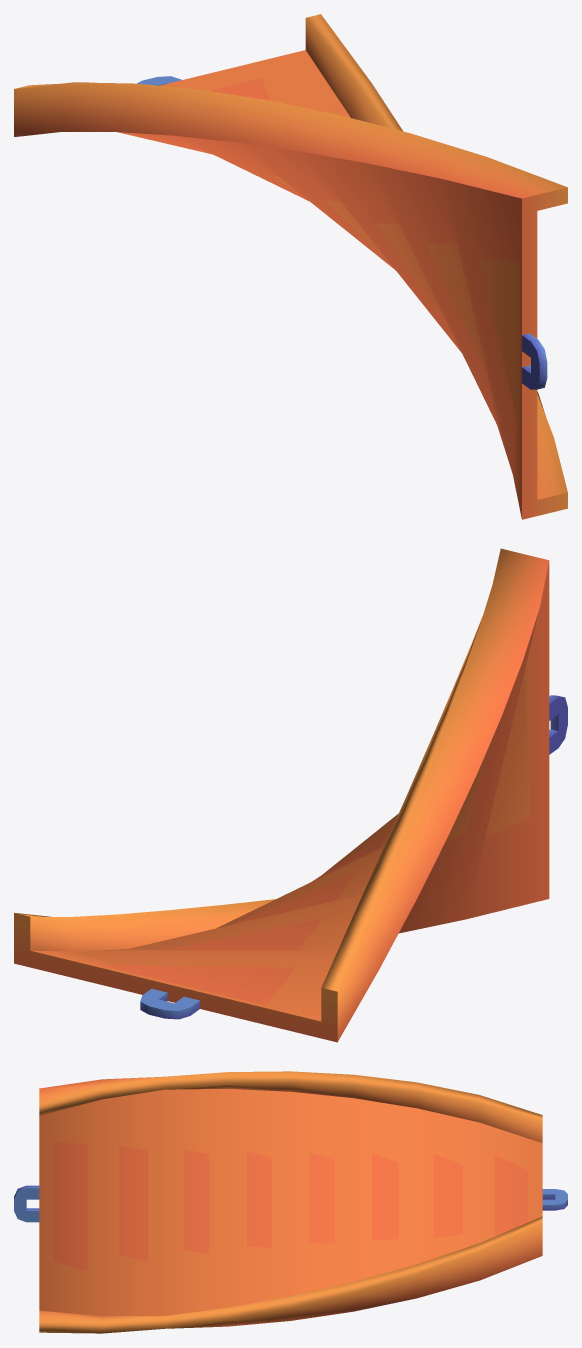
Rendered from kenney-toy-car-track-wide-straight-skew-left-side.glb.
3 views of the same model, one above another, from view 1: azimuth 30°, elevation 25°; view 2: azimuth 150°, elevation 25°; view 3: azimuth 270°, elevation 25° (orthographic). The views are drawn at different scales.
Parts seen in each view (by area): view 1: track-wide-straight-skew-left-side; view 2: track-wide-straight-skew-left-side; view 3: track-wide-straight-skew-left-side.
Part boxes in pixels (<box>): track-wide-straight-skew-left-side: <box>14,14,567,519</box>; track-wide-straight-skew-left-side: <box>14,548,567,1042</box>; track-wide-straight-skew-left-side: <box>14,1071,567,1333</box>.
Size of the model in its own units: 2.04 by 2.04 by 4.4.
1 material, 1 textured.
